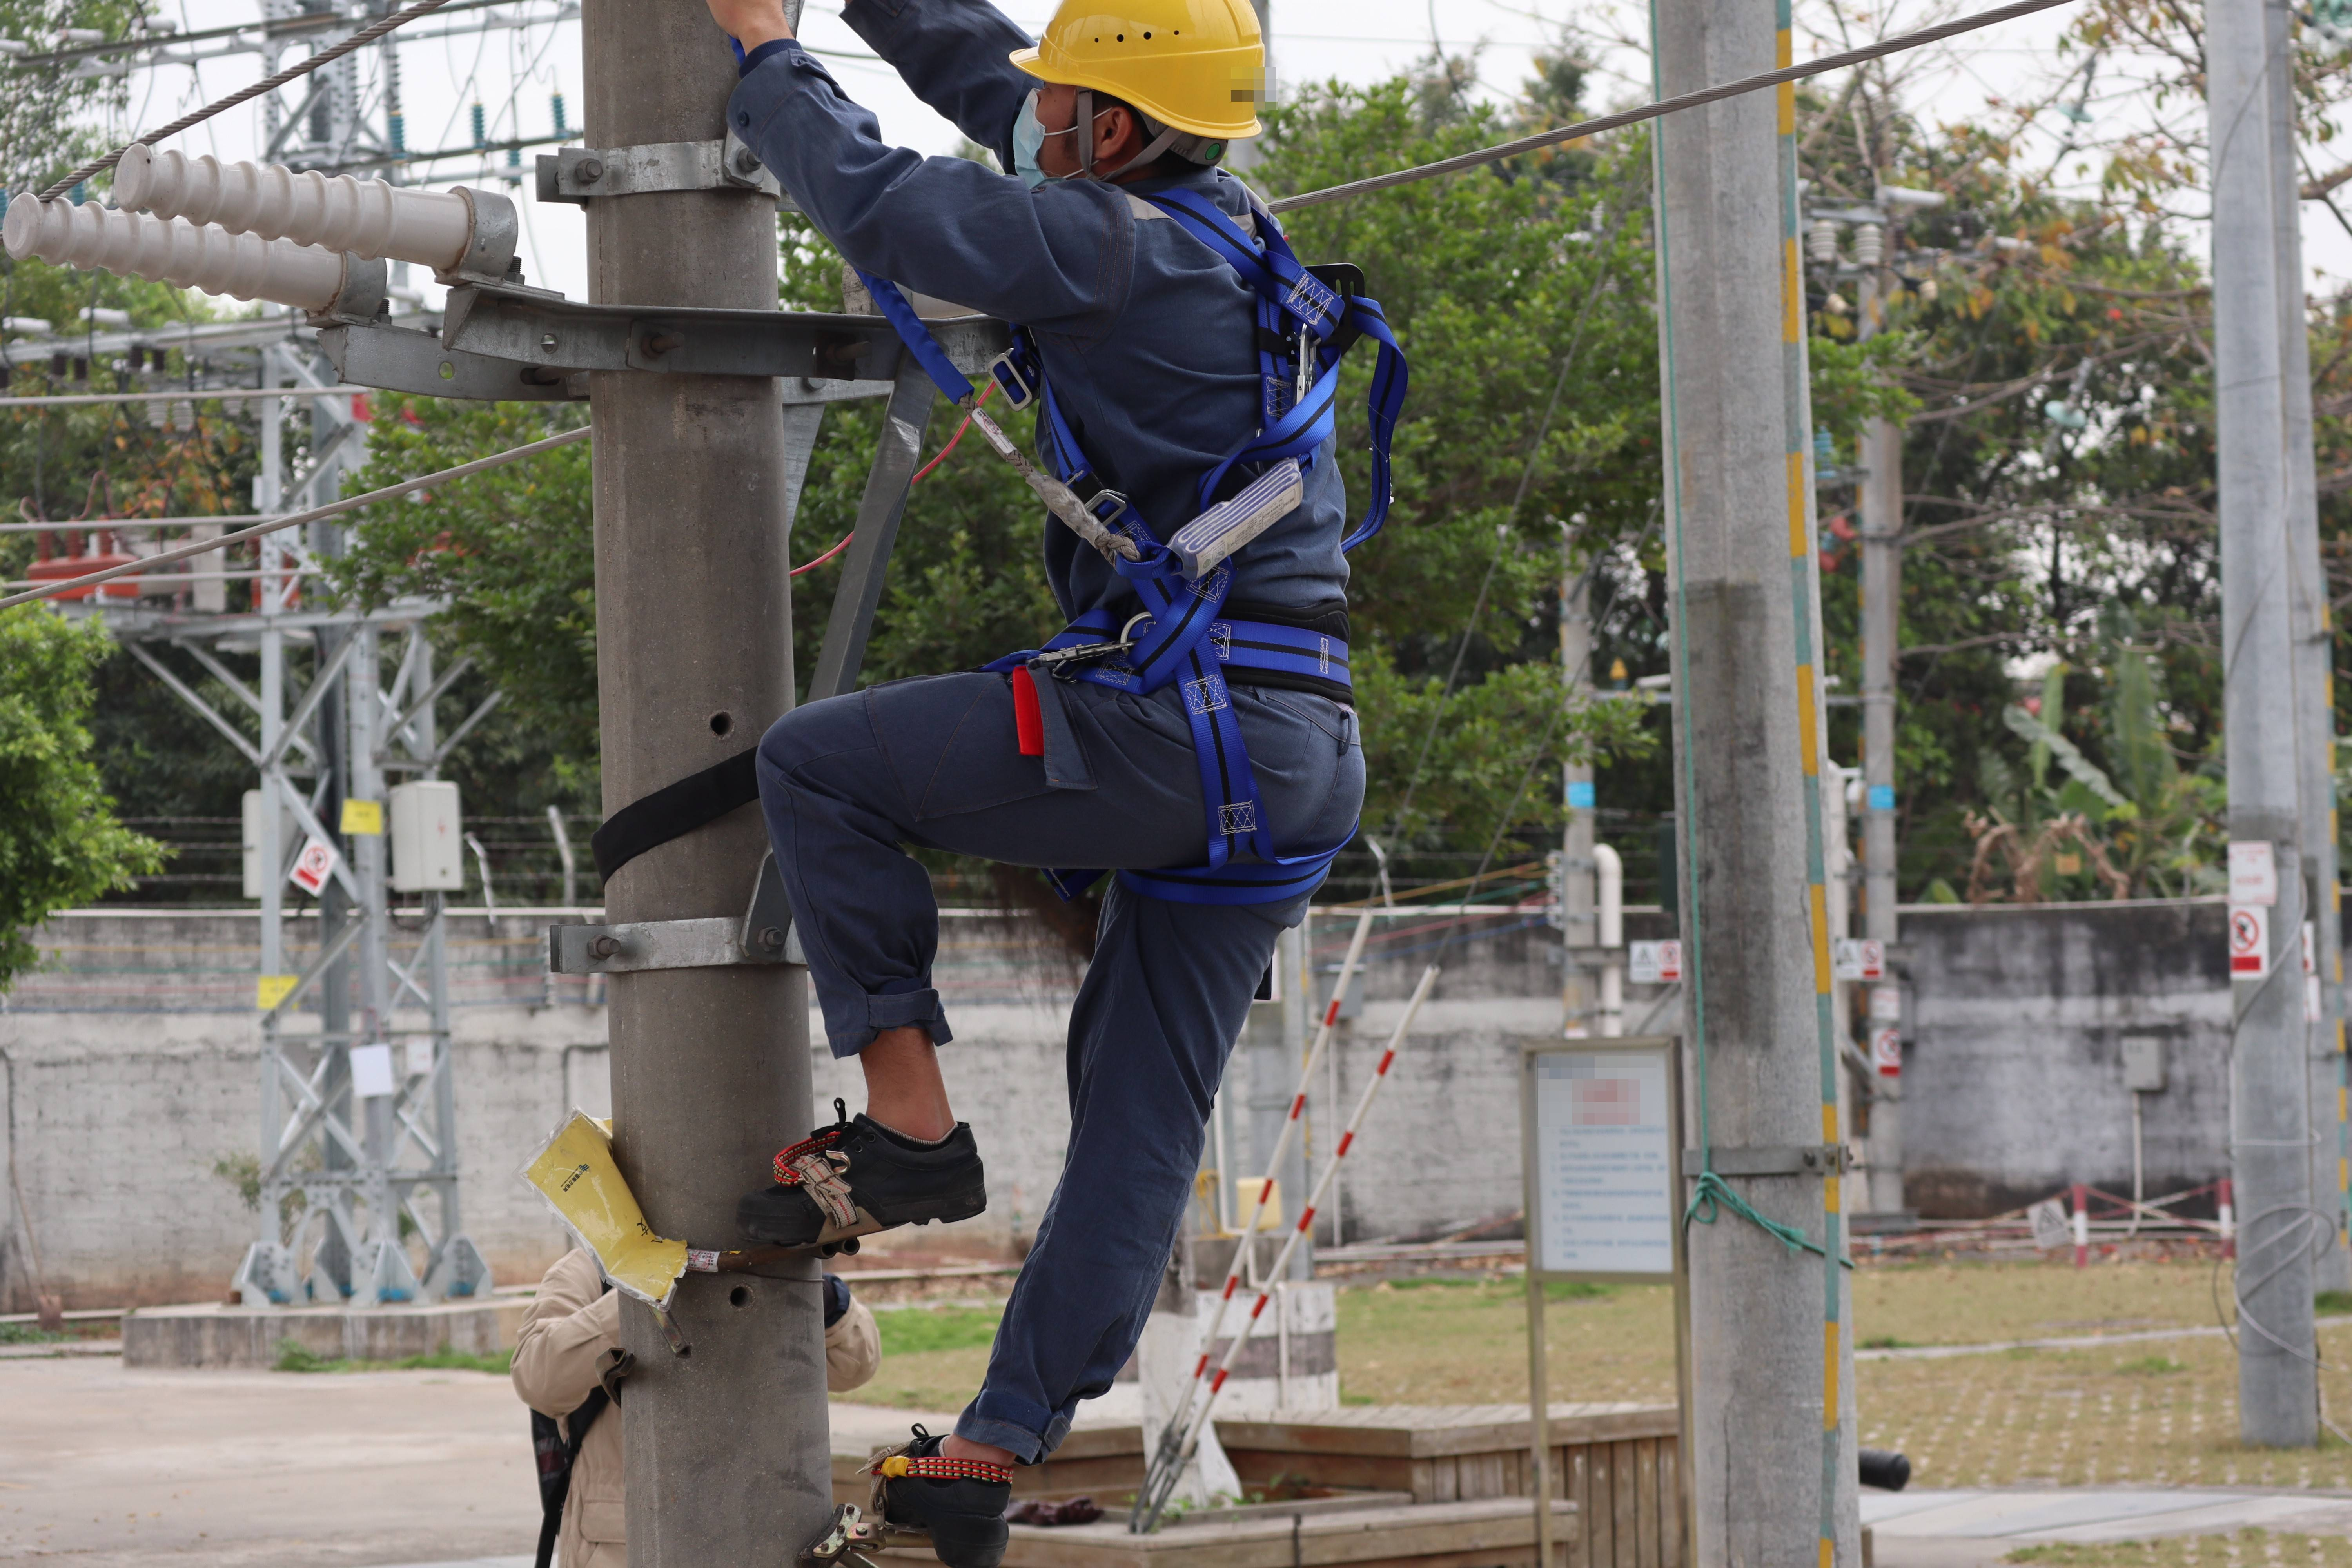downsuit: (779, 681, 1369, 1468)
upsuit: (1045, 193, 1342, 667)
wrongbottom: (837, 938, 961, 1148)
